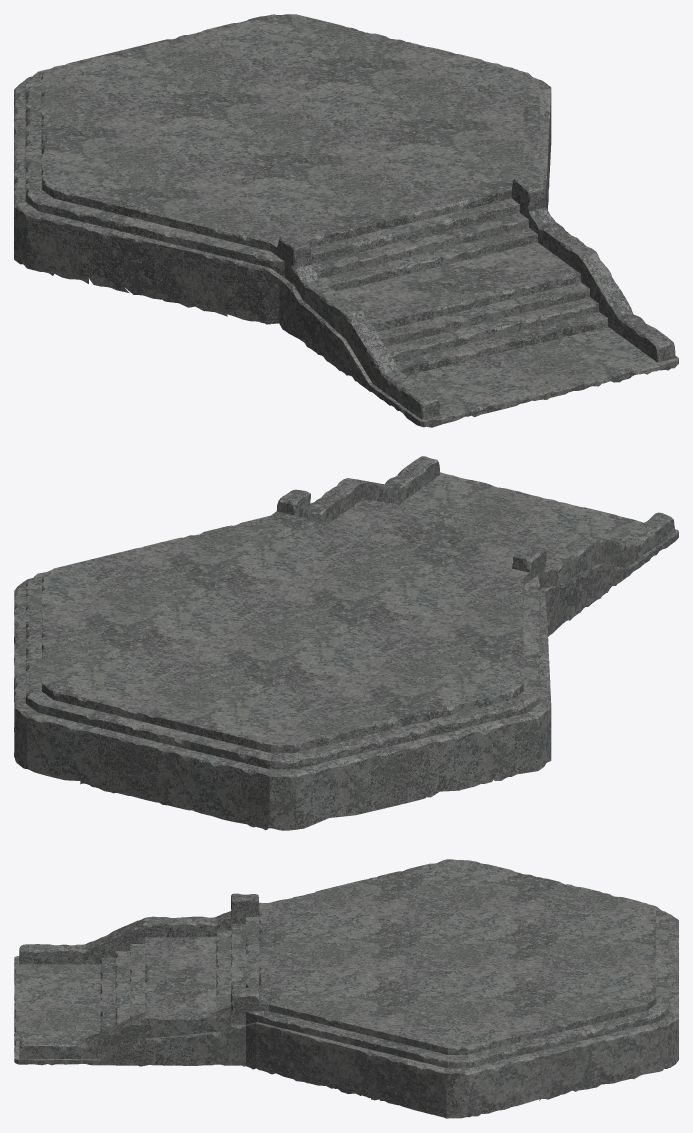
The model's file is stairs.glb.
The picture shows the model from 3 angles, top to bottom: view 1: azimuth 30°, elevation 25°; view 2: azimuth 150°, elevation 25°; view 3: azimuth 270°, elevation 25°; orthographic projection. The views are drawn at different scales.
Visible parts, largest first — view 1: StoneStairs; view 2: StoneStairs; view 3: StoneStairs.
Part boxes in pixels (<box>): StoneStairs: <box>14,14,678,427</box>; StoneStairs: <box>14,456,678,830</box>; StoneStairs: <box>14,859,678,1118</box>.
Bounding box in the file's own units: 20.14 × 3.14 × 26.86.
Materials: 1 (1 with a texture image).
